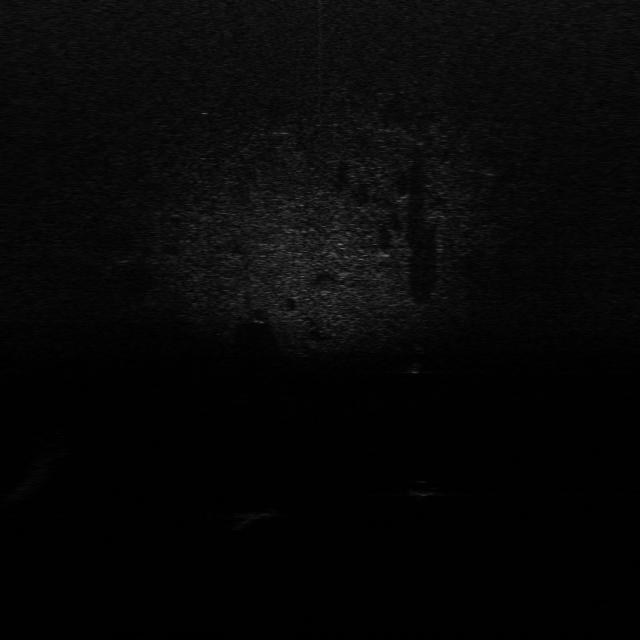ball: (404, 477, 442, 500)
square cage: (233, 506, 284, 526)
tyre: (400, 346, 430, 376)
